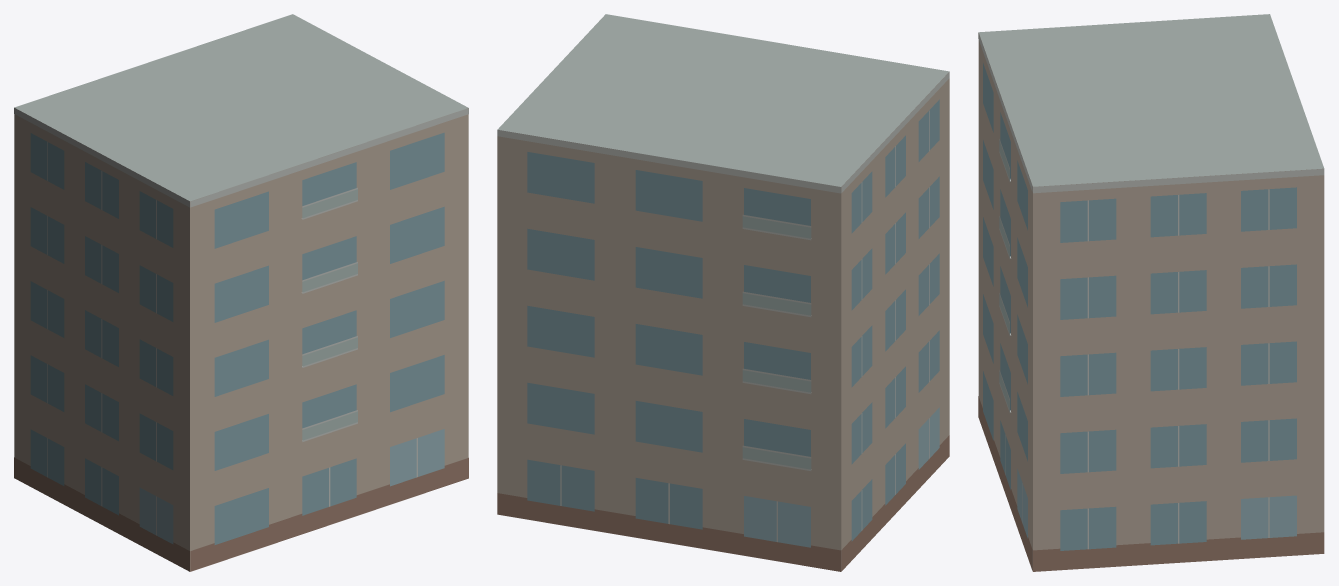
Rendered from survey-upis-33019786.glb.
3 views of the same model, side by side, from view 1: azimuth 30°, elevation 25°; view 2: azimuth 150°, elevation 25°; view 3: azimuth 270°, elevation 25° (orthographic). The views are drawn at different scales.
Parts seen in each view (by area): view 1: survey-upis-33019786.tmp; view 2: survey-upis-33019786.tmp; view 3: survey-upis-33019786.tmp.
Boxes of the visible parts, x1,y1,x2,y2 form: survey-upis-33019786.tmp: (14,14,468,571); survey-upis-33019786.tmp: (497,14,949,571); survey-upis-33019786.tmp: (978,14,1324,571).
Size of the model in its own units: 13.87 by 14.4 by 11.73.
